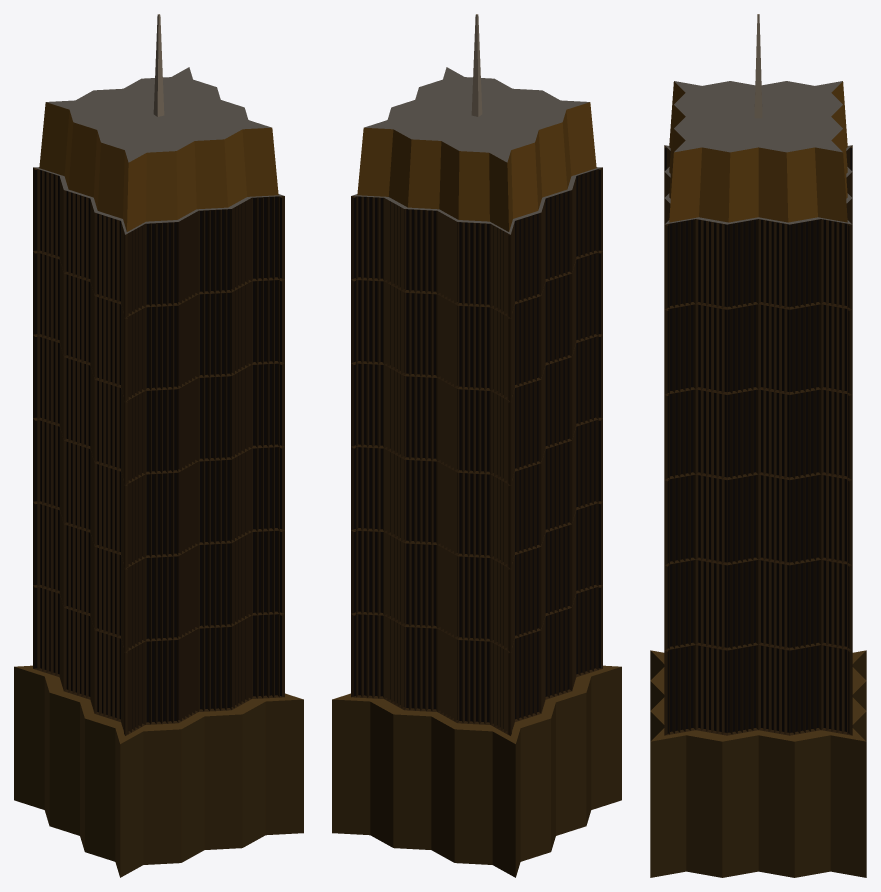
Rendered from TrumpTower.fbx.
3 renders of one model, left to right at view 1: azimuth 30°, elevation 25°; view 2: azimuth 150°, elevation 25°; view 3: azimuth 270°, elevation 25°, orthographic.
Visible parts, largest first — view 1: TrumpTower; view 2: TrumpTower; view 3: TrumpTower.
Part boxes in pixels (box(x1,y1,x2,y2)): TrumpTower: box(14, 14, 303, 877); TrumpTower: box(332, 14, 621, 877); TrumpTower: box(650, 14, 866, 877).
Bounding box in the file's own units: 11.5 × 48 × 11.5.
